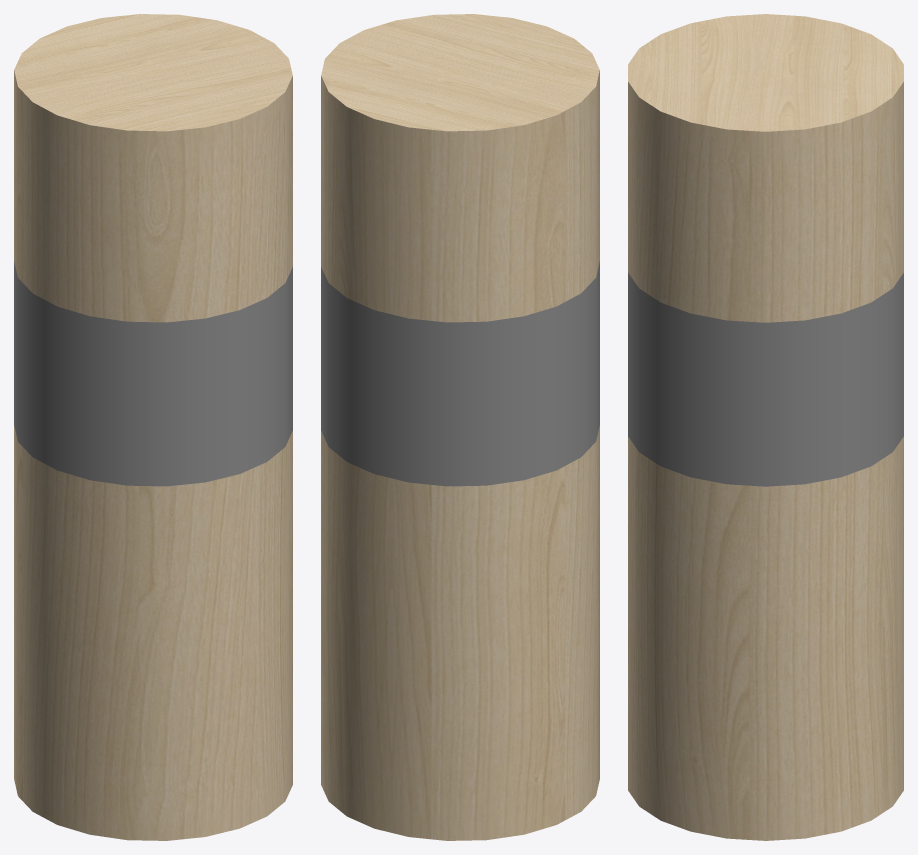
The model's file is Column 1.FBX.
3 renders of one model, left to right at view 1: azimuth 30°, elevation 25°; view 2: azimuth 150°, elevation 25°; view 3: azimuth 270°, elevation 25°, orthographic.
Visible parts, largest first — view 1: column 1; view 2: column 1; view 3: column 1.
Part boxes in pixels (left/top/right/bottom): column 1: left=14, top=14, right=292, bottom=840; column 1: left=321, top=14, right=599, bottom=840; column 1: left=628, top=14, right=903, bottom=840.
Size of the model in its own units: 115 by 323 by 114.
2 materials, 1 textured.
